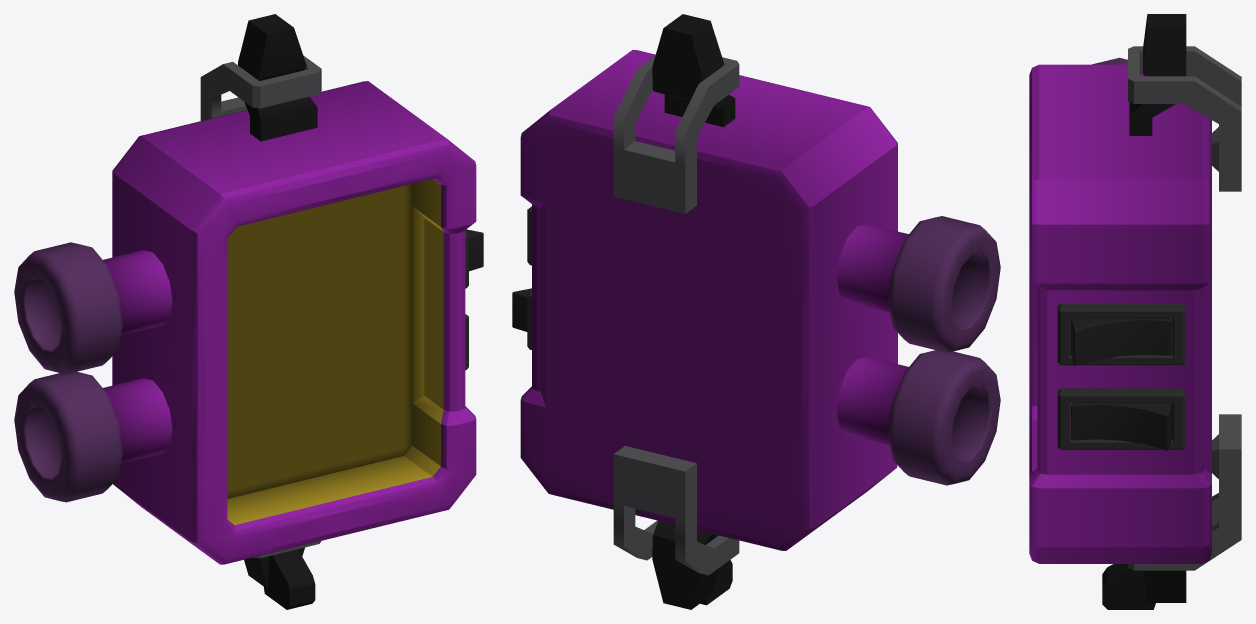
The model's file is Procesor_Cooling_lvl_10_V02.fbx.
3 views of the same model, side by side, from view 1: azimuth 30°, elevation 25°; view 2: azimuth 150°, elevation 25°; view 3: azimuth 270°, elevation 25° (orthographic). The views are drawn at different scales.
Visible parts, largest first — view 1: Procesor_Cooling_lvl_10; view 2: Procesor_Cooling_lvl_10; view 3: Procesor_Cooling_lvl_10.
Part boxes in pixels (left/top/right/bottom): Procesor_Cooling_lvl_10: left=14, top=14, right=483, bottom=609; Procesor_Cooling_lvl_10: left=512, top=14, right=1000, bottom=609; Procesor_Cooling_lvl_10: left=1029, top=14, right=1241, bottom=609.
Size of the model in its own units: 36.59 by 46.77 by 15.47.
